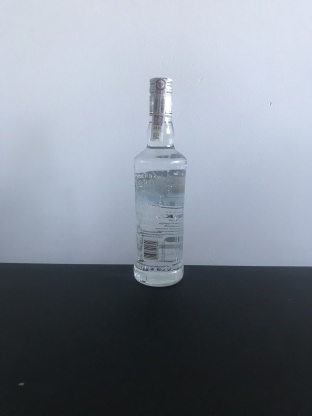nakretka: (147, 73, 174, 119)
